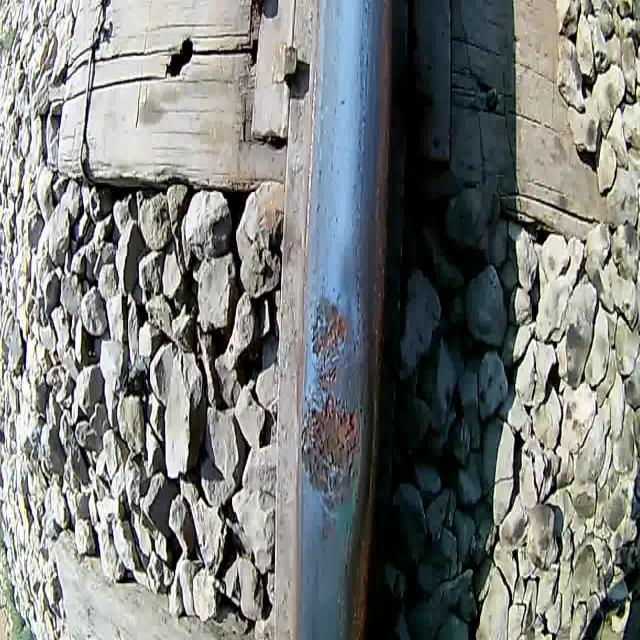Spallings: (298, 390, 361, 492), (312, 299, 347, 389)
Squats: (293, 285, 367, 562)
